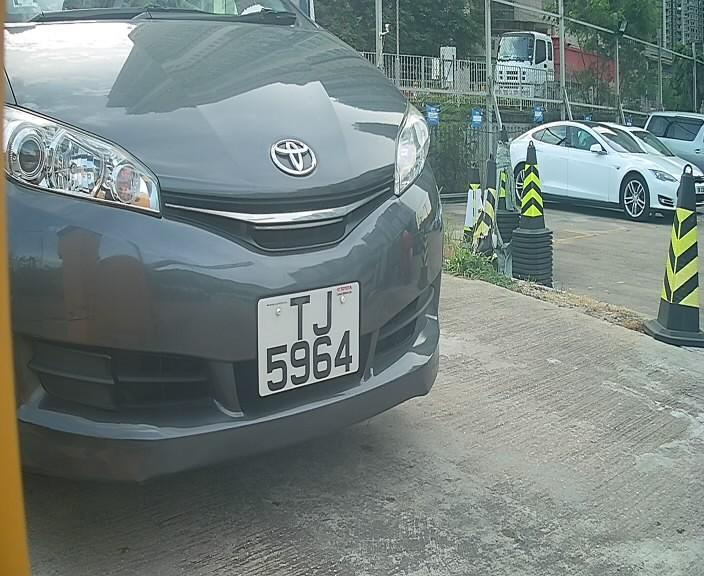privatecar: (7, 11, 466, 469)
